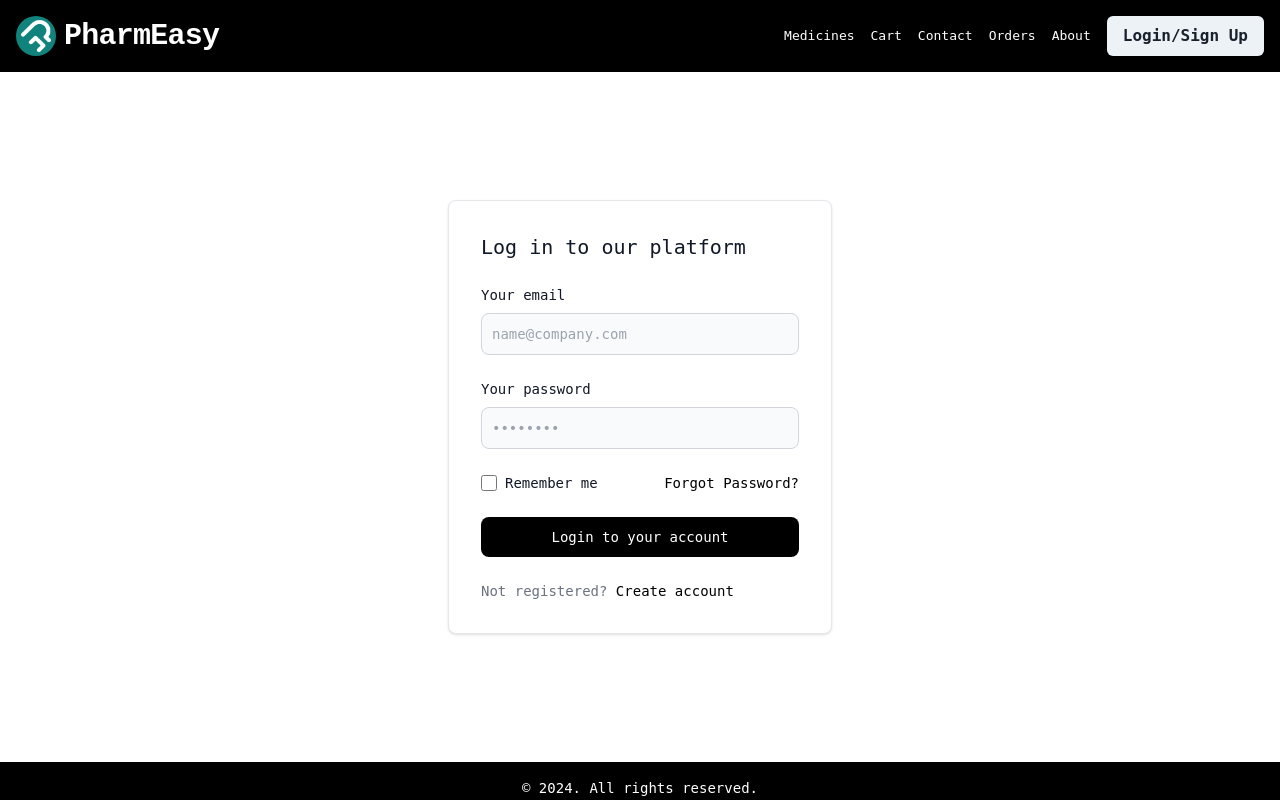
Test: Login Component E2E Test › validates email format
The image size is (1280, 800).
// Fill in an incorrect email format
Step 1. Type "invalidEmail" into the field with id "email" → (640, 334), box [481, 313, 799, 355]
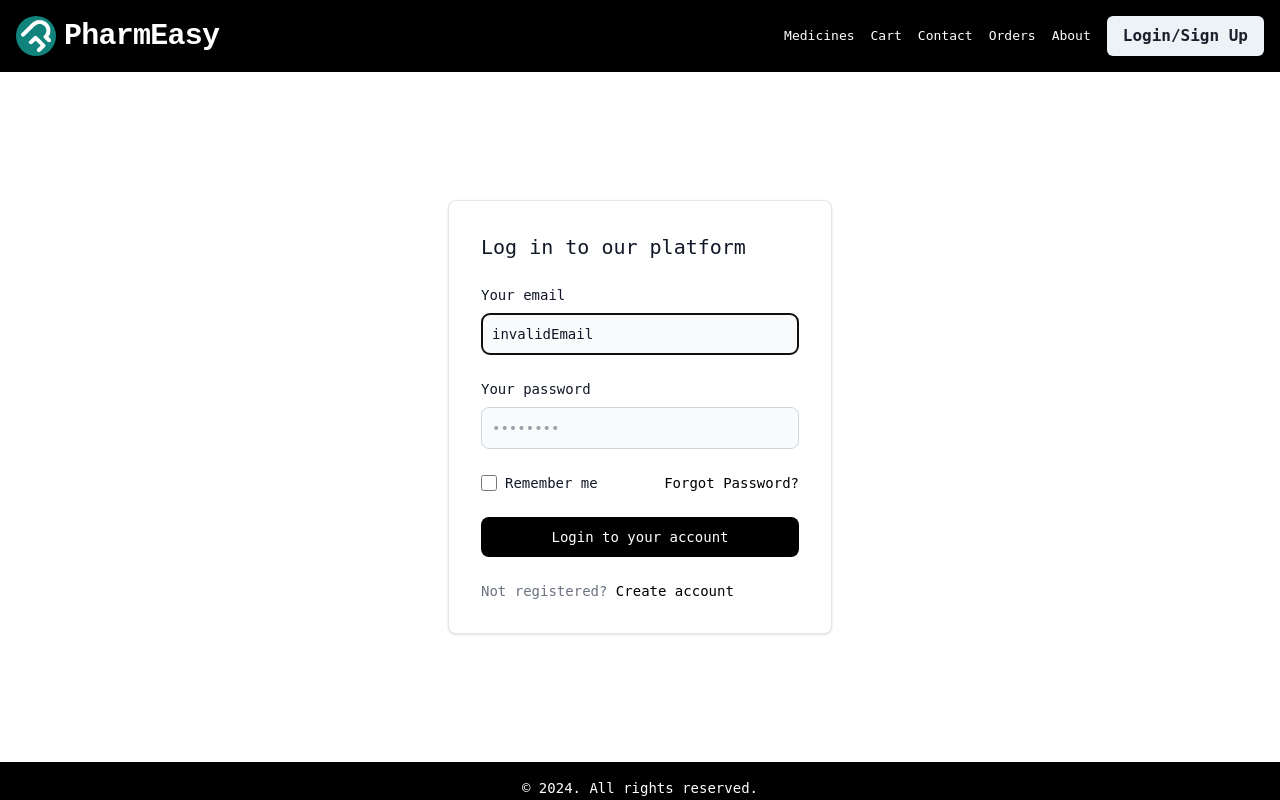
Step 2. Type "StrongPass1!" into the password field labelled "Your password" → (640, 428), box [481, 407, 799, 449]
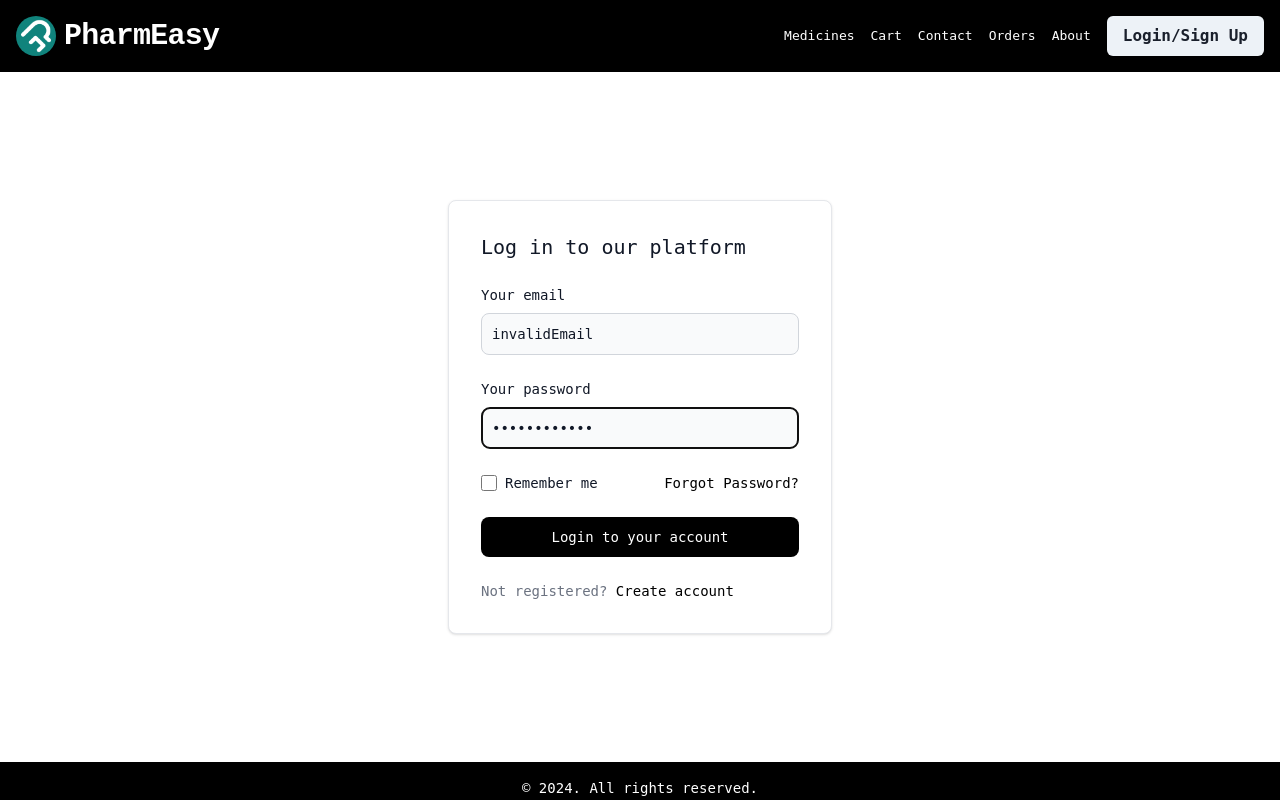
// Submit the form
Step 3. Click the submit button → (640, 537), box [481, 517, 799, 557]
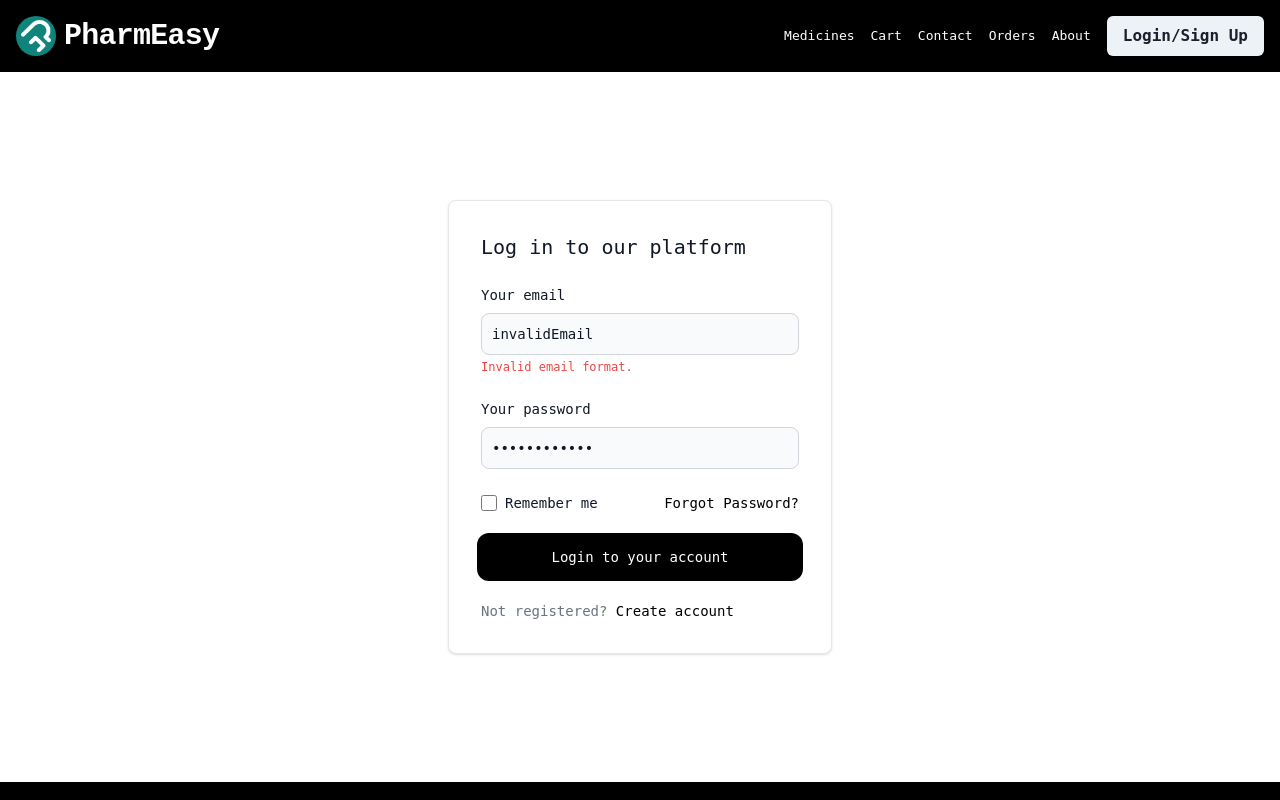
Expected: the text "Invalid email format." is shown, [481, 360, 633, 374]
